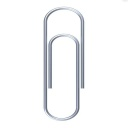Metal: (38, 0, 91, 122)
